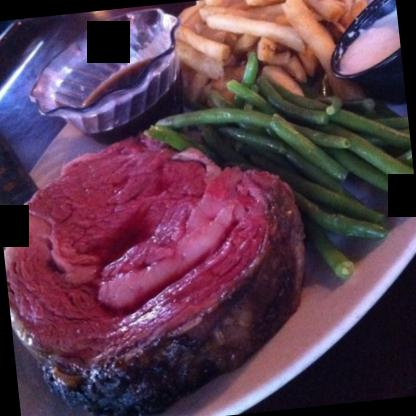beef: (0, 126, 320, 415), (161, 45, 415, 288)
